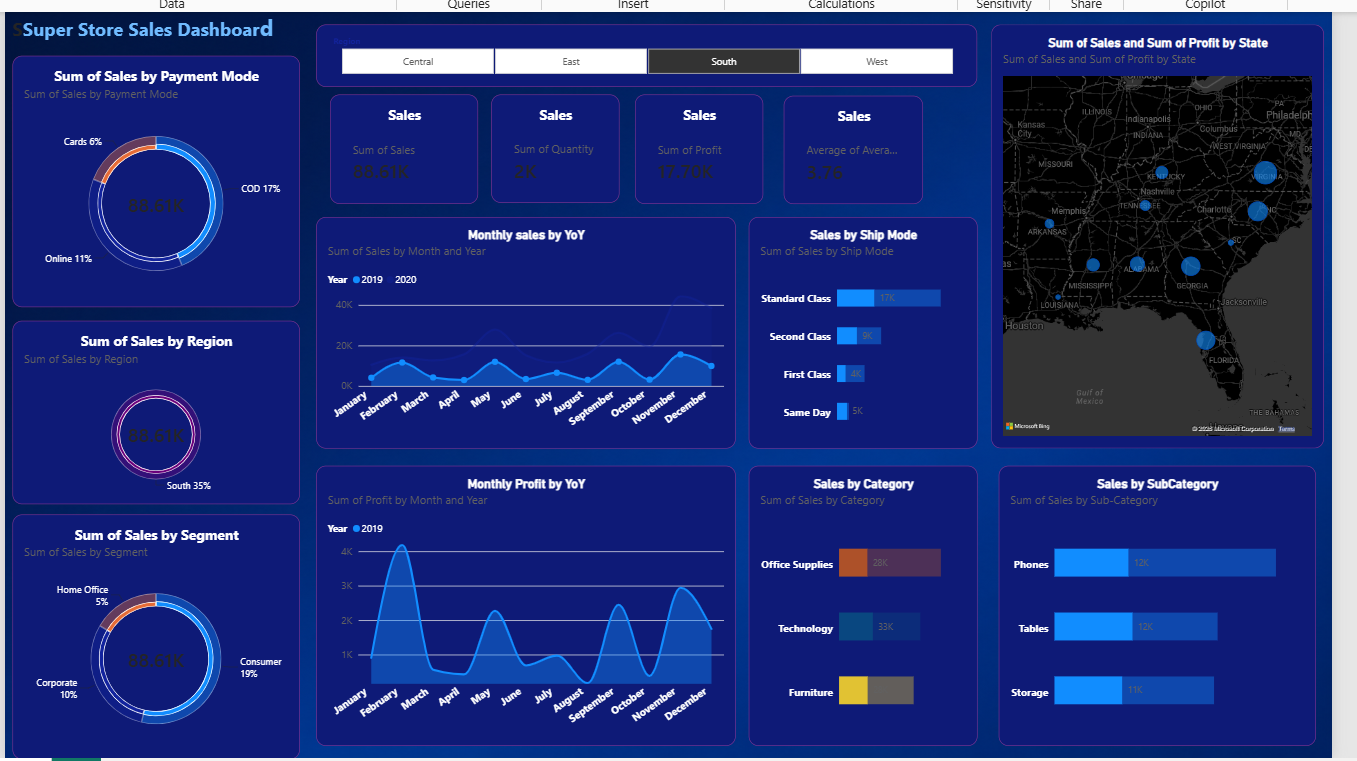

The page's visual inventory and layout, read from the dashboard file:
{"tool":"powerbi","page":{"name":"Page 1","canvas":[1920,1080],"ordinal":0},"visuals":[{"type":"clusteredBarChart","title":"Sales by SubCategory","fields":{"Y":["Sum(SuperStore_Sales_Dataset.Sales)"],"Category":["SuperStore_Sales_Dataset.Sub-Category"]},"box":[1438.8,656.6,459,405.5],"z":0},{"type":"clusteredBarChart","title":"Sales by Category","fields":{"Y":["Sum(SuperStore_Sales_Dataset.Sales)"],"Category":["SuperStore_Sales_Dataset.Category"]},"box":[1076.5,656.6,331.4,405.5],"z":1000},{"type":"clusteredBarChart","title":"Sales by Ship Mode","fields":{"Y":["Sum(SuperStore_Sales_Dataset.Sales)"],"Category":["SuperStore_Sales_Dataset.Ship Mode"]},"box":[1076.5,296.4,331.4,335.5],"z":2000},{"type":"stackedAreaChart","title":"Monthly sales by YoY","fields":{"Y":["Sum(SuperStore_Sales_Dataset.Sales)"],"Series":["SuperStore_Sales_Dataset.Order Date.Variation.Date Hierarchy.Year"],"Category":["SuperStore_Sales_Dataset.Order Date.Variation.Date Hierarchy.Month","SuperStore_Sales_Dataset.Order Date.Variation.Date Hierarchy.Day"]},"box":[450.8,296.4,607.2,335.5],"z":3000},{"type":"stackedAreaChart","title":"Monthly Profit by YoY","fields":{"Series":["SuperStore_Sales_Dataset.Order Date.Variation.Date Hierarchy.Year"],"Category":["SuperStore_Sales_Dataset.Order Date.Variation.Date Hierarchy.Month","SuperStore_Sales_Dataset.Order Date.Variation.Date Hierarchy.Day"],"Y":["Sum(SuperStore_Sales_Dataset.Profit)"]},"box":[450.8,656.6,607.2,405.5],"z":4000},{"type":"map","title":"Sum of Sales and Sum of Profit by State","fields":{"Category":["SuperStore_Sales_Dataset.State"],"Size":["Sum(SuperStore_Sales_Dataset.Sales)"]},"box":[1428.5,18.5,481.6,613.4],"z":5000},{"type":"donutChart","title":"Sum of Sales by Segment","fields":{"Category":["SuperStore_Sales_Dataset.Segment"],"Y":["Sum(SuperStore_Sales_Dataset.Sales)"]},"box":[10.3,726.6,415.8,354],"z":6000},{"type":"donutChart","title":"Sum of Sales by Payment Mode","fields":{"Category":["SuperStore_Sales_Dataset.Payment Mode"],"Y":["Sum(SuperStore_Sales_Dataset.Sales)"]},"box":[10.3,63.8,415.8,378.7],"z":7000},{"type":"donutChart","title":"Sum of Sales by Region","fields":{"Category":["SuperStore_Sales_Dataset.Region"],"Y":["Sum(SuperStore_Sales_Dataset.Sales)"]},"box":[10.3,446.7,415.8,265.5],"z":8000},{"type":"slicer","fields":{"Values":["SuperStore_Sales_Dataset.Region"]},"box":[450.8,18.5,957.1,90.6],"z":8001},{"type":"textbox","box":[1058,110,150,288],"z":8002},{"type":"textbox","box":[10.3,0,1086.8,63.8],"z":8003},{"type":"textbox","box":[1408,110,150,288],"z":8004},{"type":"textbox","box":[1058,110,150,333],"z":8005},{"type":"textbox","box":[1058,110,150,333],"z":8006},{"type":"cardVisual","title":"Sales","fields":{"Data":["Sum(SuperStore_Sales_Dataset.Sales)"]},"box":[471.4,119.4,214.1,158.5],"z":8007},{"type":"cardVisual","title":"Sales","fields":{"Data":["Sum(SuperStore_Sales_Dataset.Quantity)"]},"box":[703.9,119.4,185.2,156.4],"z":8008},{"type":"cardVisual","title":"Sales","fields":{"Data":["Sum(SuperStore_Sales_Dataset.Profit)"]},"box":[911.8,119.4,185.2,158.5],"z":8009},{"type":"cardVisual","title":"Sales","fields":{"Data":["Avg(SuperStore_Sales_Dataset.AverageDelivery)"]},"box":[1128,121.4,201.7,156.4],"z":8010}]}

Visuals, with their boxes on the page's 1920x1080 design canvas (x1, y1, x2, y2). These are canvas units, not pixel positions in the 1357x761 screenshot, which may show the page scaled, cropped or inside an application window:
"Sales by SubCategory" clusteredBarChart: 1439, 657, 1898, 1062
"Sales by Category" clusteredBarChart: 1076, 657, 1408, 1062
"Sales by Ship Mode" clusteredBarChart: 1076, 296, 1408, 632
"Monthly sales by YoY" stackedAreaChart: 451, 296, 1058, 632
"Monthly Profit by YoY" stackedAreaChart: 451, 657, 1058, 1062
"Sum of Sales and Sum of Profit by State" map: 1428, 18, 1910, 632
"Sum of Sales by Segment" donutChart: 10, 727, 426, 1081
"Sum of Sales by Payment Mode" donutChart: 10, 64, 426, 442
"Sum of Sales by Region" donutChart: 10, 447, 426, 712
slicer - SuperStore_Sales_Dataset.Region: 451, 18, 1408, 109
textbox: 1058, 110, 1208, 398
textbox: 10, 0, 1097, 64
textbox: 1408, 110, 1558, 398
textbox: 1058, 110, 1208, 443
textbox: 1058, 110, 1208, 443
"Sales" cardVisual: 471, 119, 686, 278
"Sales" cardVisual: 704, 119, 889, 276
"Sales" cardVisual: 912, 119, 1097, 278
"Sales" cardVisual: 1128, 121, 1330, 278
